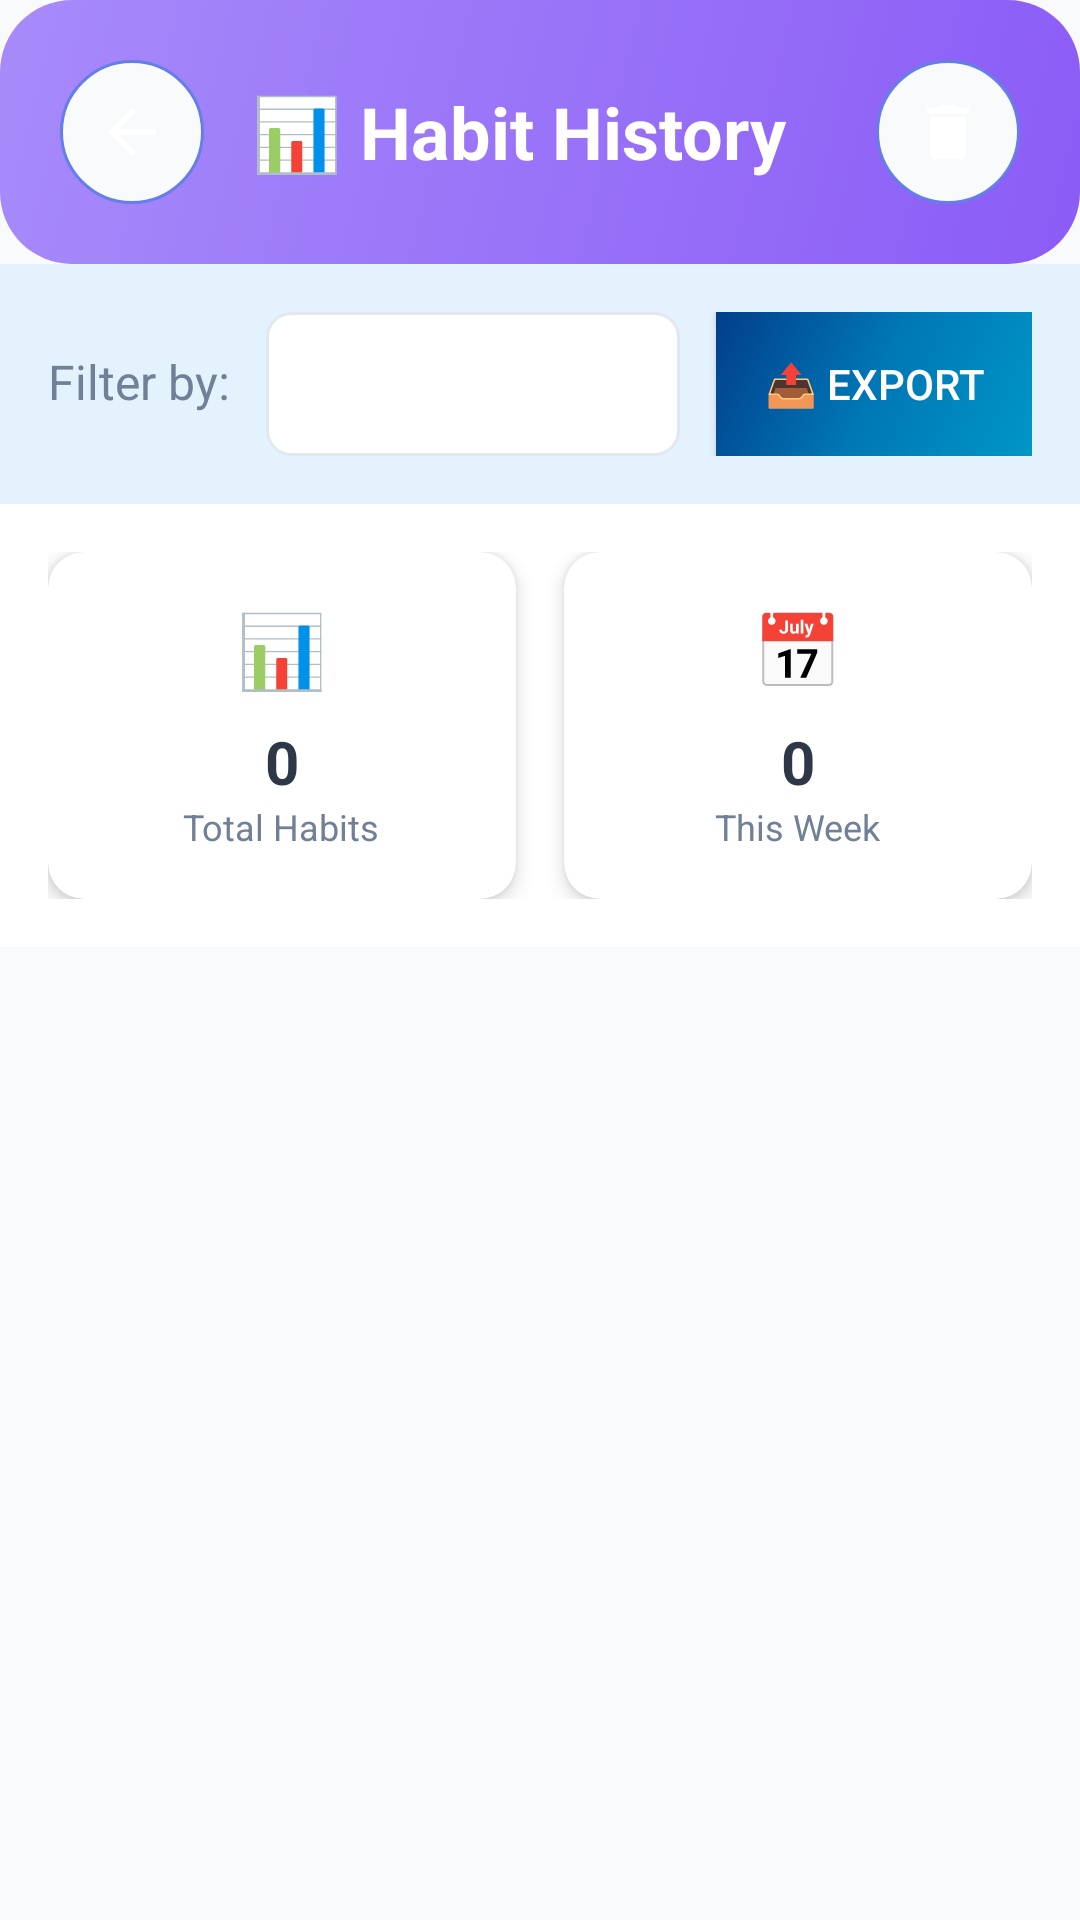

Screen size 1080x1920. Icon name, then its center in pixels as (x=x, y=y):
Back: (x=132, y=132)
Clear All: (x=948, y=132)
